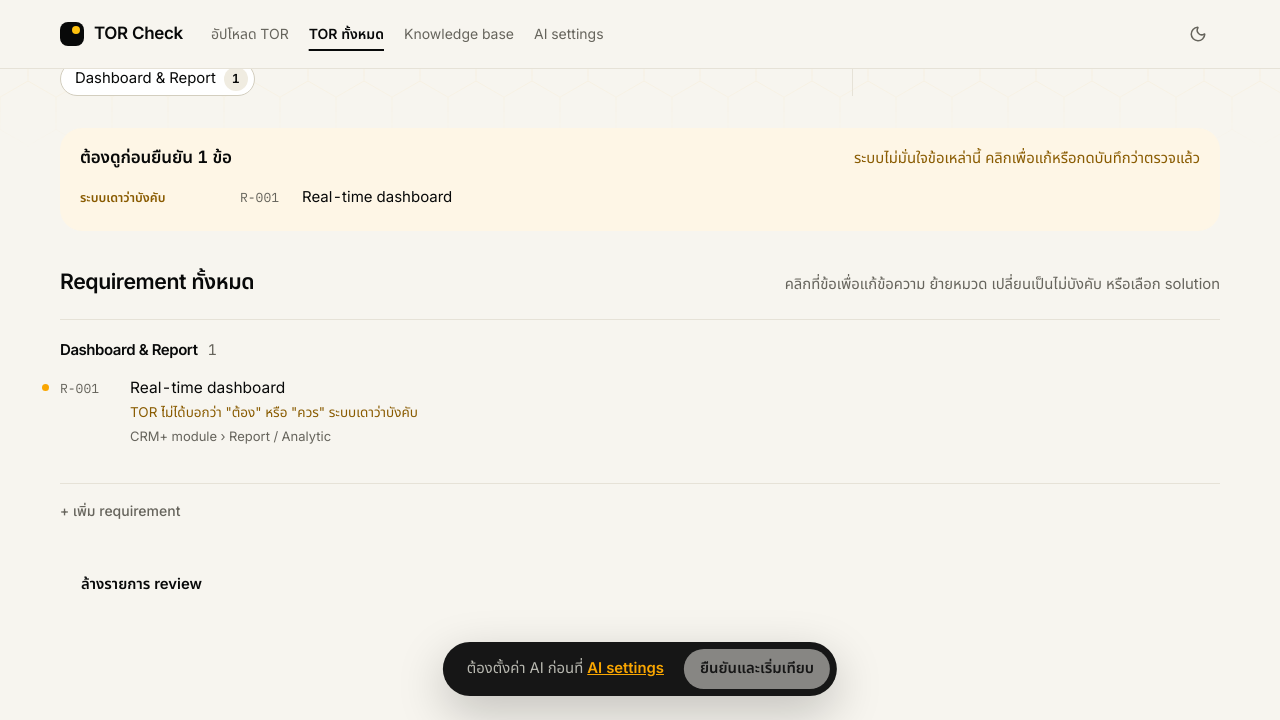
Test: review solutions page › edits a requirement: text, category and priority; saving marks it looked at
The image size is (1280, 720).
(page scrolled)
Expected: the element "ต้องดูก่อนยืนยัน 1 ข้อ" is shown, [60, 128, 1220, 231]
Click the button "R-001 Real-time dashboard": (80, 389) [48, 365, 1232, 458]
(page scrolled)
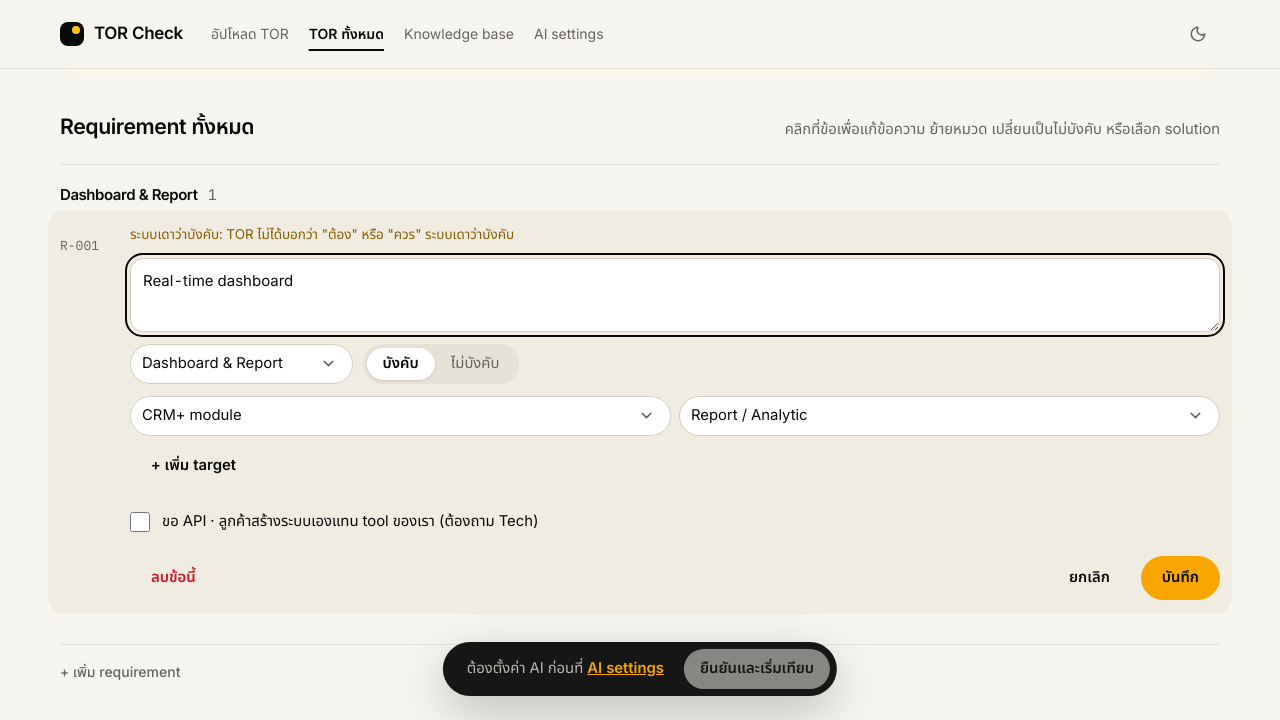
Replace the text in the text box named "ข้อความ R-001" with "Dashboard หน่วงไม่เกิน 15 นาที": (675, 295) [130, 258, 1220, 332]
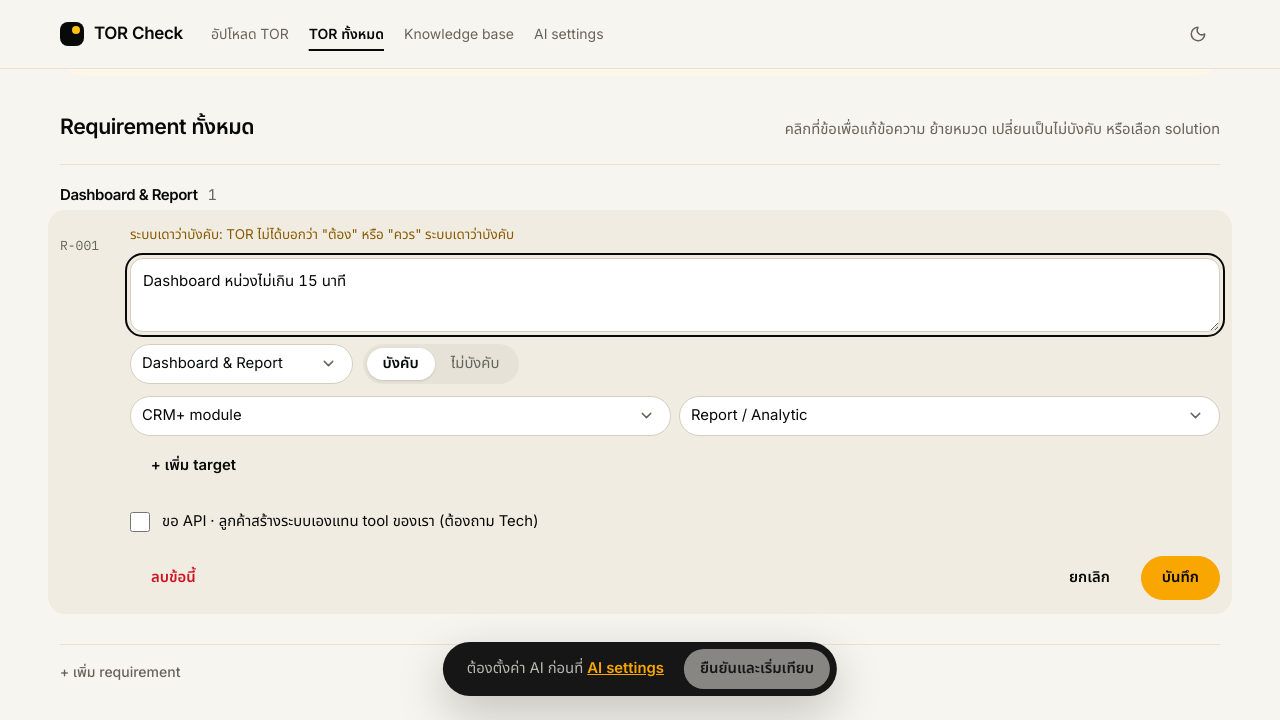
Select "System Point" in the 1st dropdown named "หมวดของ R-001": (241, 364) [130, 344, 352, 384]
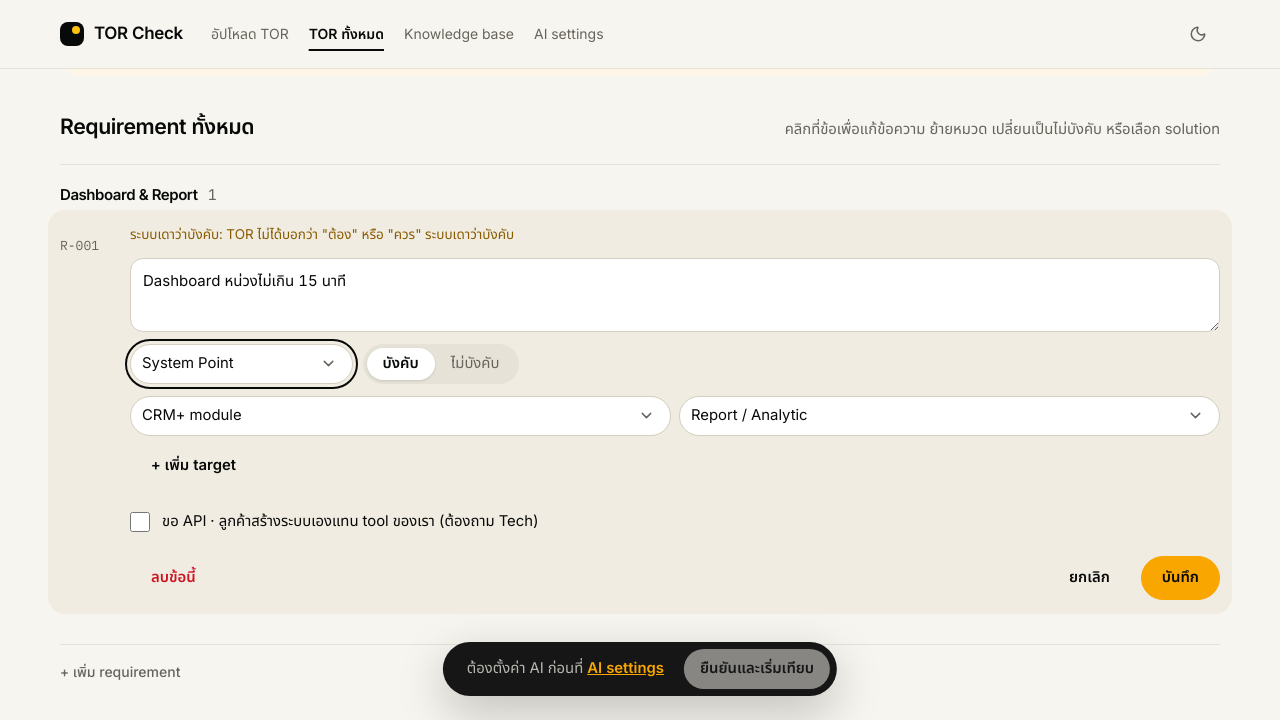
Click the button "ไม่บังคับ": (475, 364) [435, 348, 515, 380]
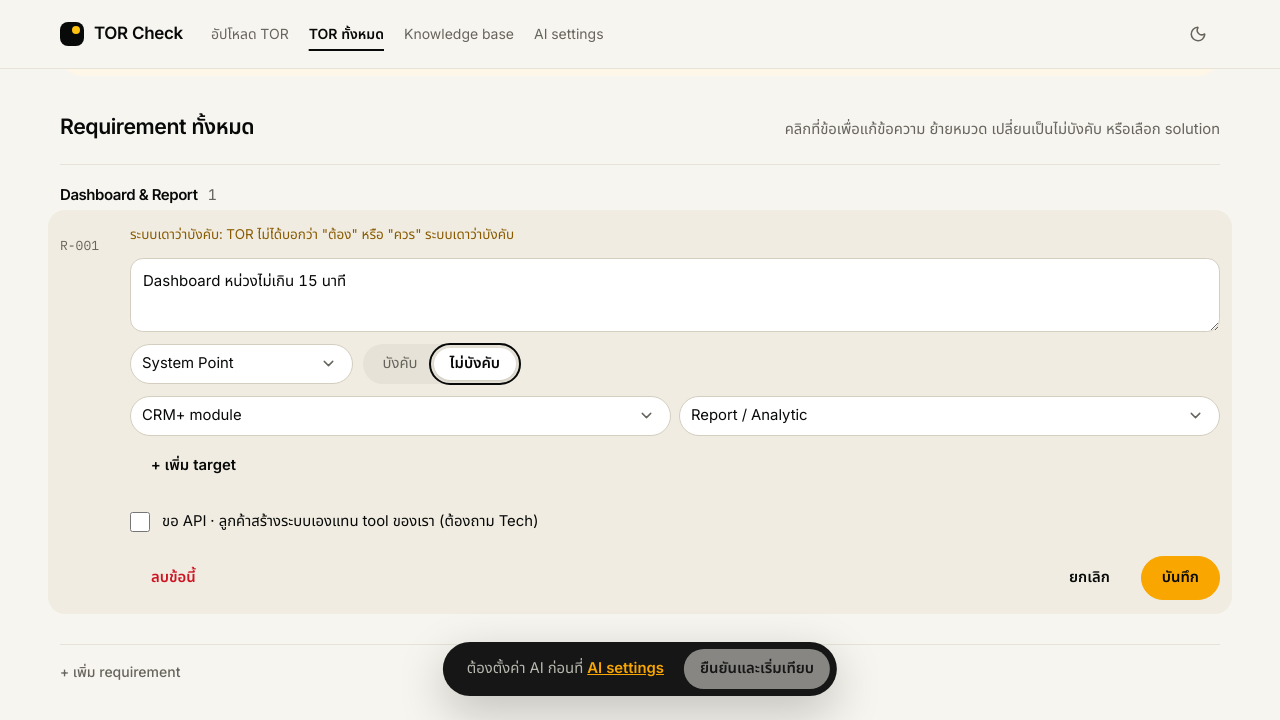
Click the button "บันทึก": (1180, 578) [1141, 556, 1220, 600]
(page scrolled)
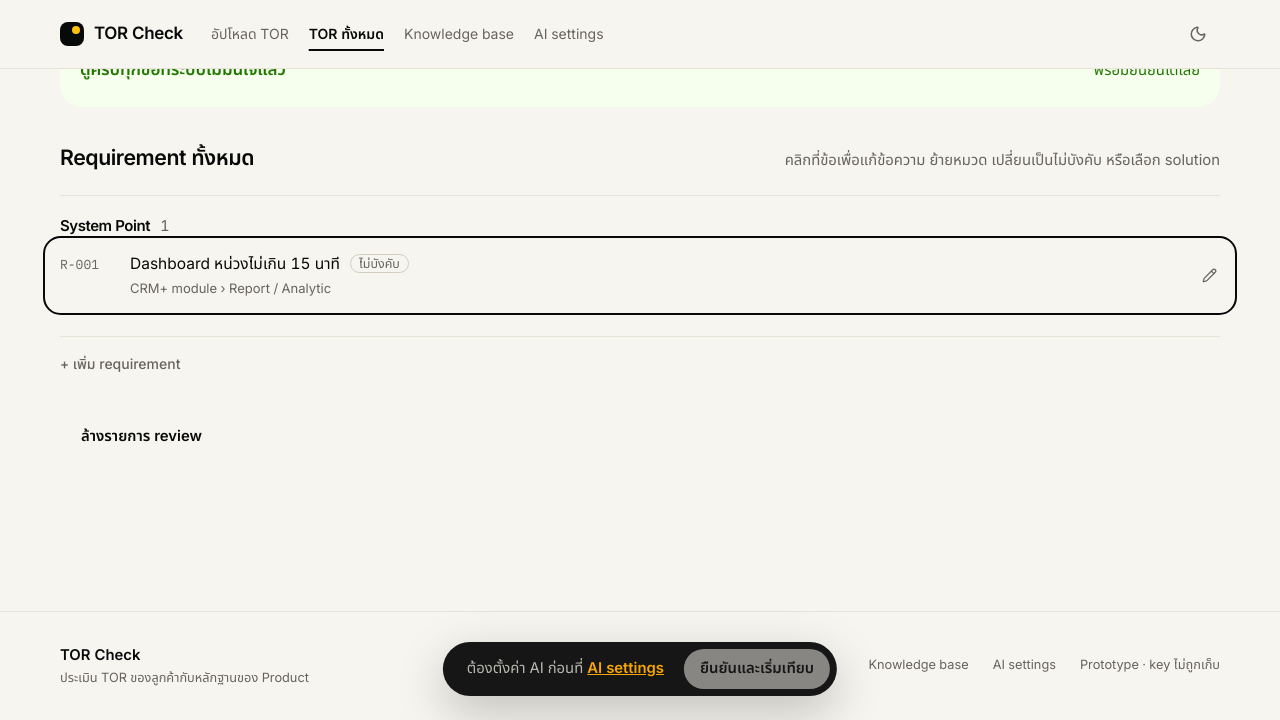
Now the heading "ดูครบทุกข้อที่ระบบไม่มั่นใจแล้ว" is shown, box [80, 60, 286, 79]
